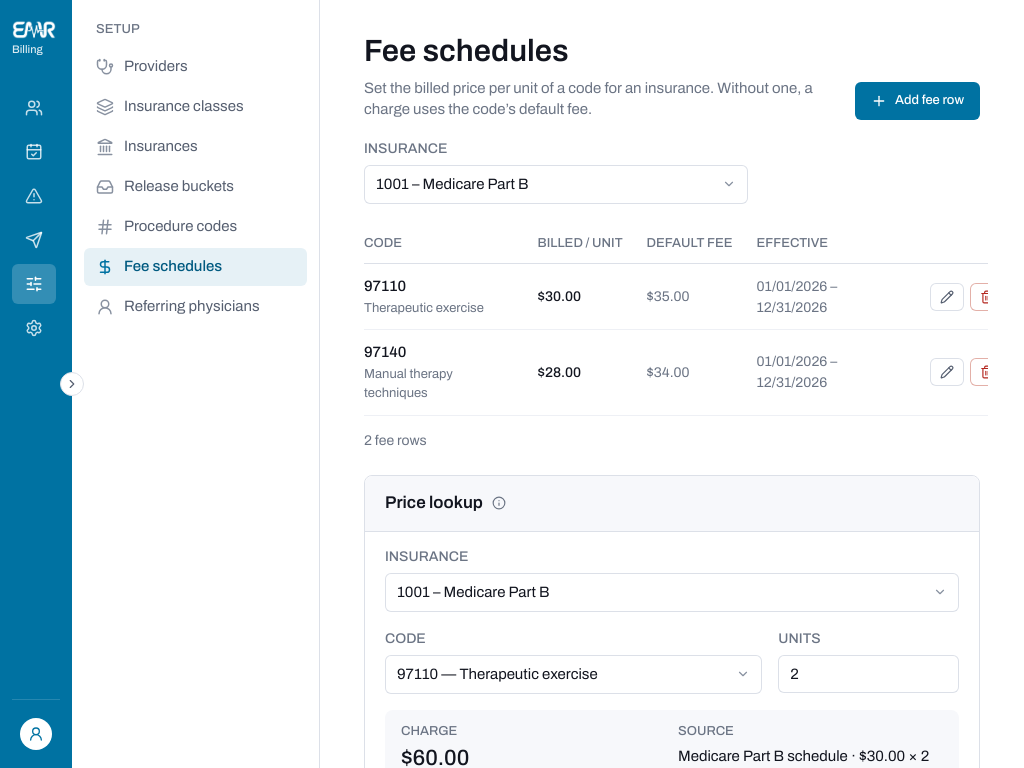
Setup → Fee schedules › deletes a row after confirming, and the code falls back to its default fee
Step 1. Click the button named "Delete the 97110 (from 01/01/2026) row" → [987, 297], box [970,283,1004,311]
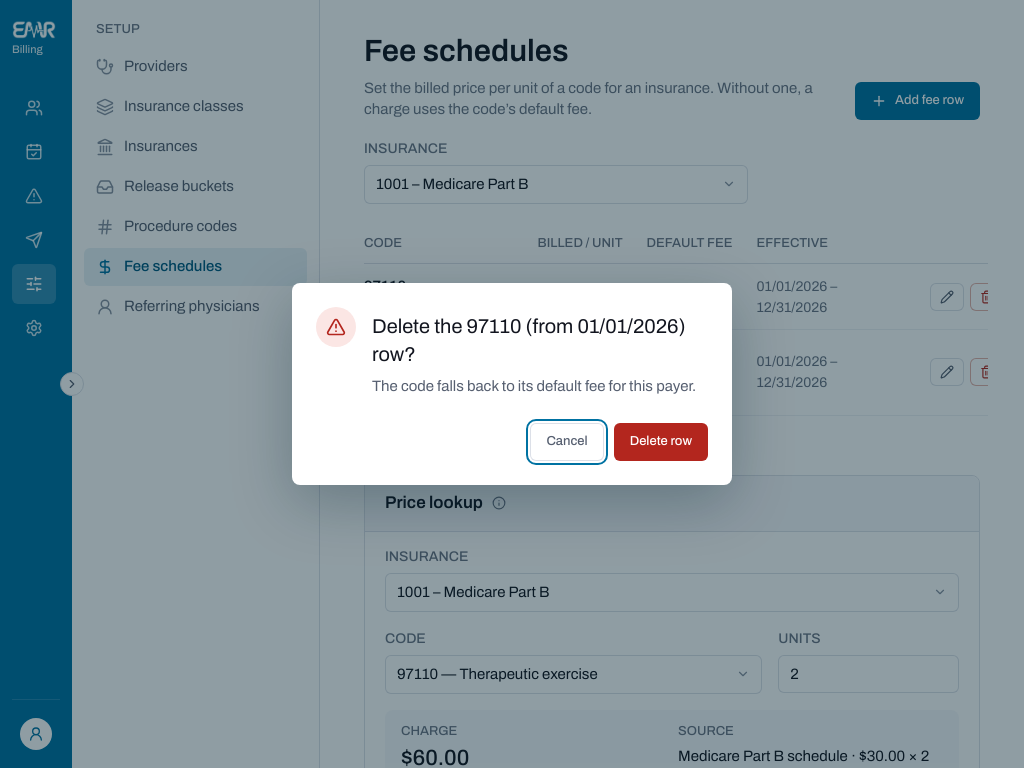
expect the dialog shows "The code falls back to its default fee for this payer.": met, box [372,378,696,394]
Step 2. Click the button "Delete row" → [661, 442], box [614,423,708,461]
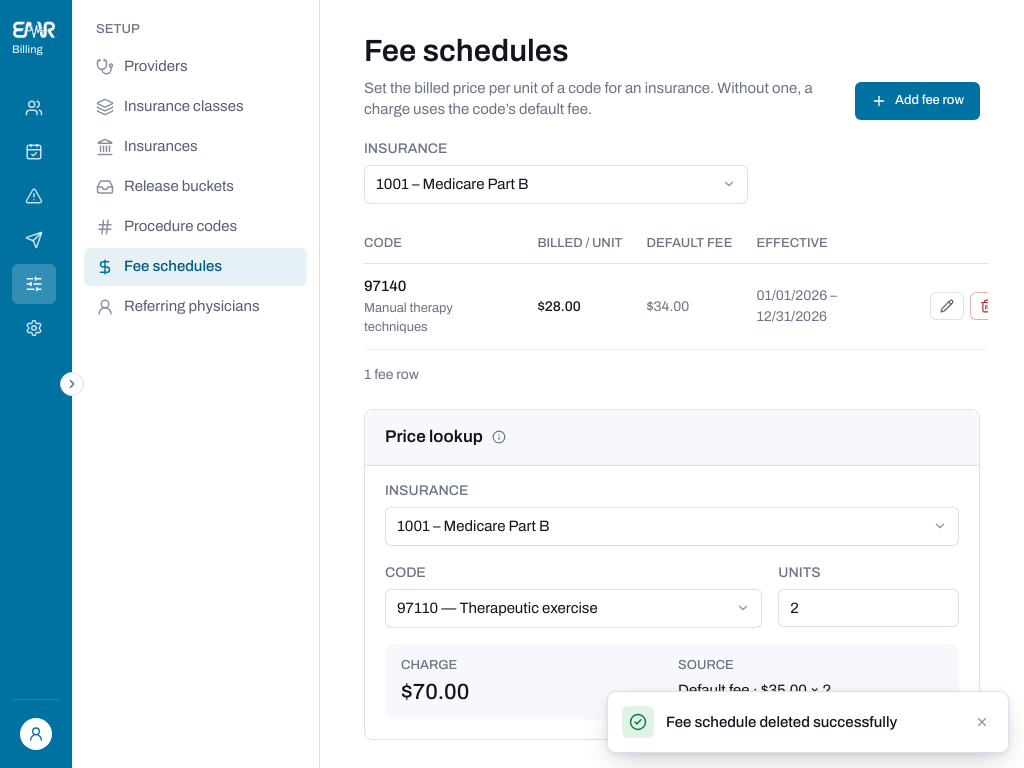
expect the dialog is gone: met
expect the text "Fee schedule deleted successfully" is shown: met, box [666,714,897,730]
expect the element "Price lookup" shows "$70.00": met, box [401,680,469,704]
